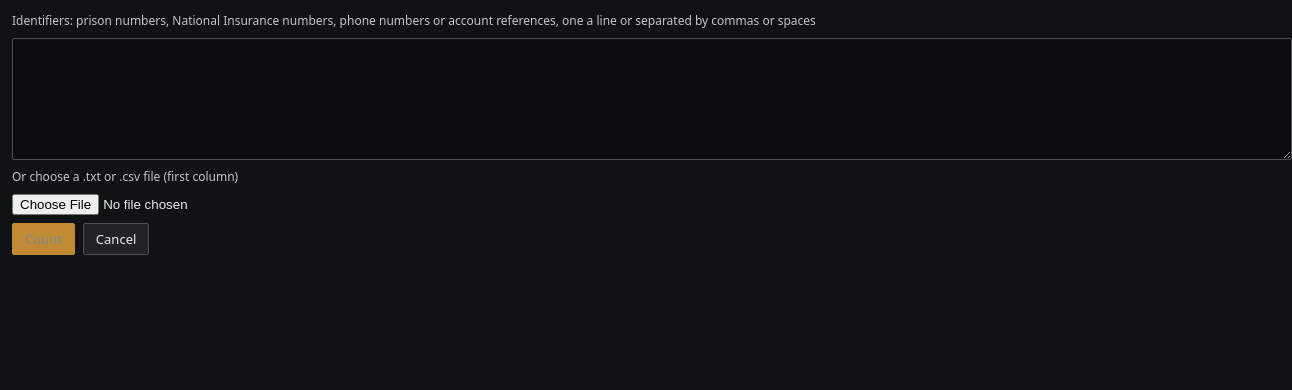
Scenario: the confirm › past the canvas's limit says so with the figure, adds nothing, and keeps the count to choose again
The width and height of the screenshot is (1292, 390).
Type "Z1234ZZ" into the text box labelled "Identifiers" at (652, 99), box [12,38,1291,160]
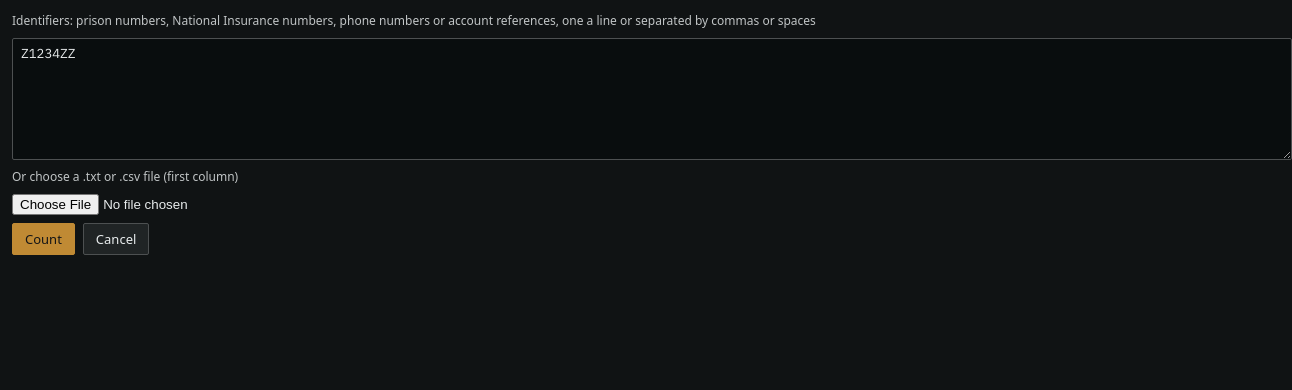
Click the button "Count" at (43, 239), box [12,223,75,255]
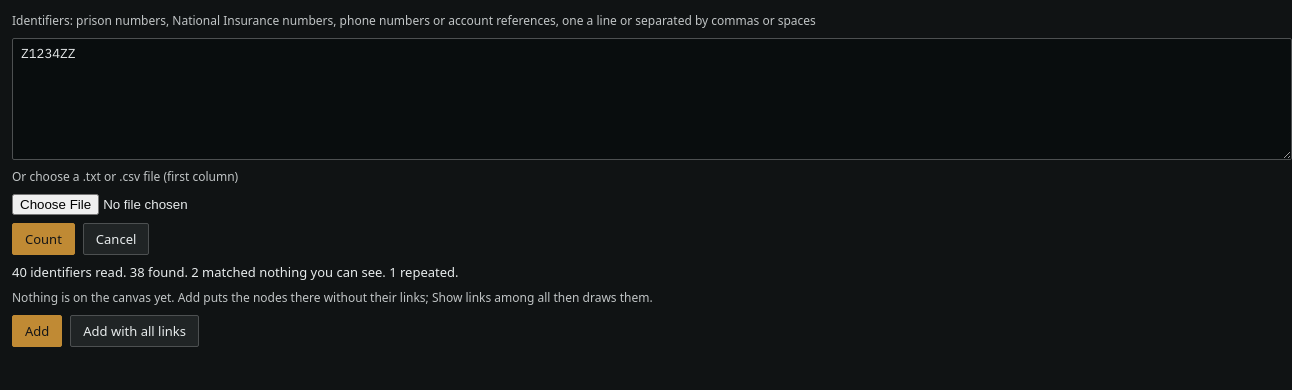
Expected: the message "40 identifiers read. 38 found. 2 matched nothing you can see. 1 repeated." is shown, [12,263,459,281]
Click the button "Add" at (37, 331), box [12,315,62,347]
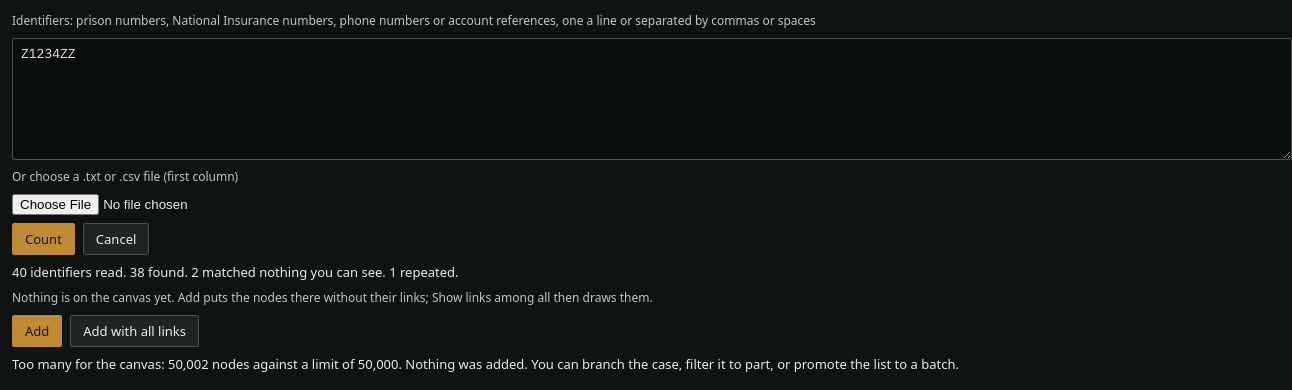
Expected: the 2nd message shows "Too many for the canvas: 50,002 nodes against a limit of 50,000. Nothing was added.", [12,355,959,373]
Expected: the 2nd message shows "branch the case", [12,355,959,373]
